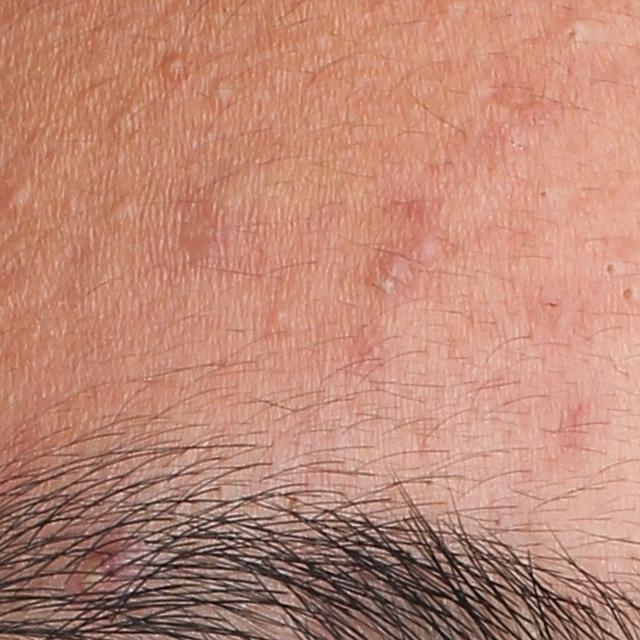comedo: (559, 19, 588, 52), (106, 196, 135, 225), (161, 51, 187, 79), (112, 108, 140, 133), (206, 76, 233, 101), (415, 235, 438, 261), (598, 257, 620, 282), (267, 304, 289, 328), (617, 280, 634, 302)
